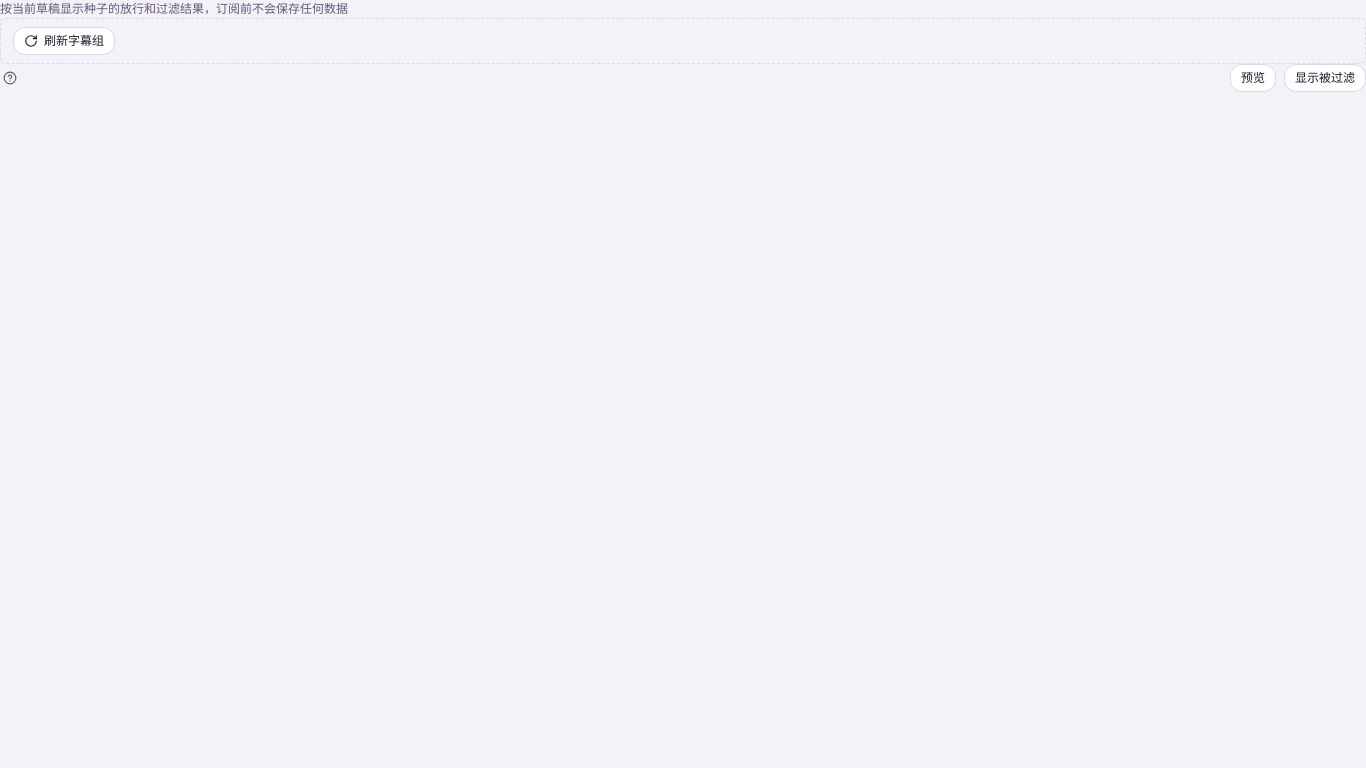
Test: 订阅前 RSS 工作区：草稿偏移编辑与文件行 › 偏移越界内联报错，不保存也不重读
Click the button "预览" at (1253, 78), box [1230,64,1276,92]
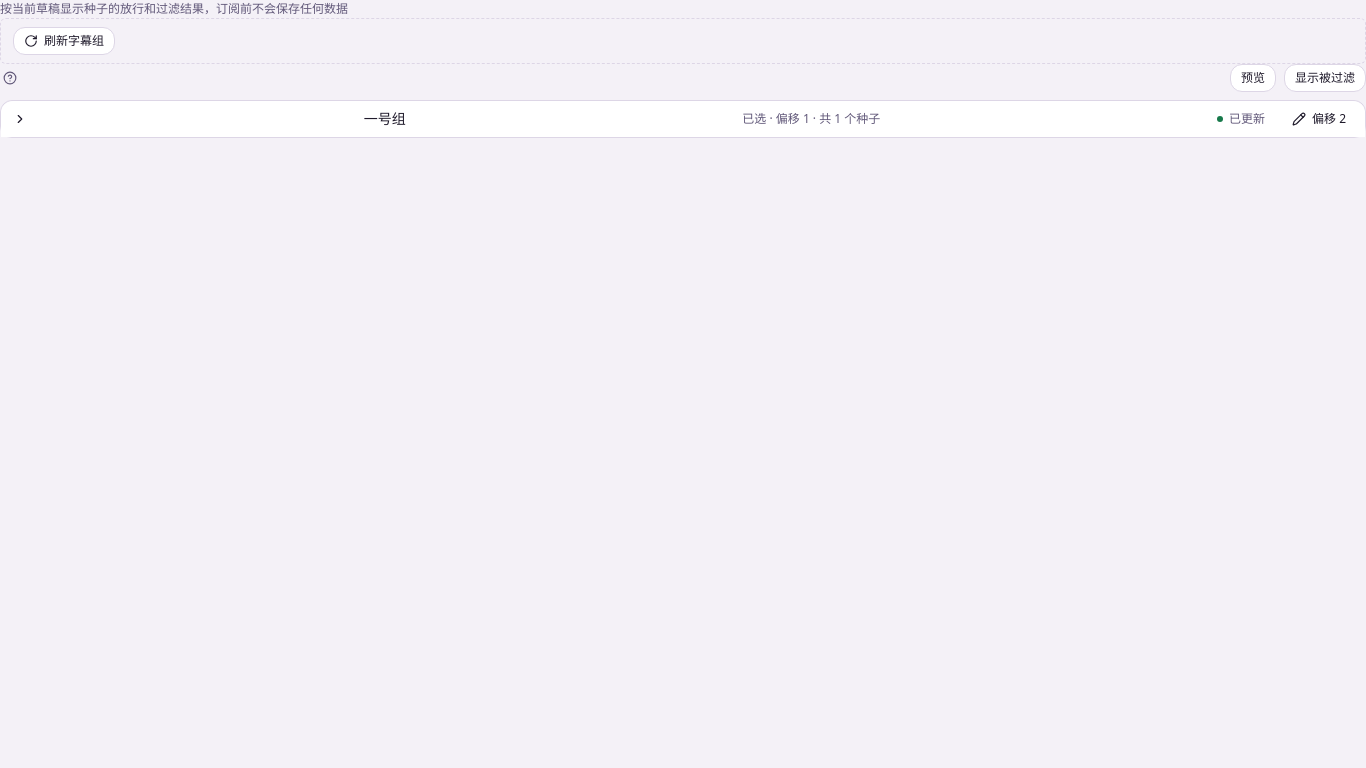
Expected: the text "一号组" is shown, [364,109,406,129]
Click the button "偏移 2" at (1319, 119), box [1281,105,1357,133]
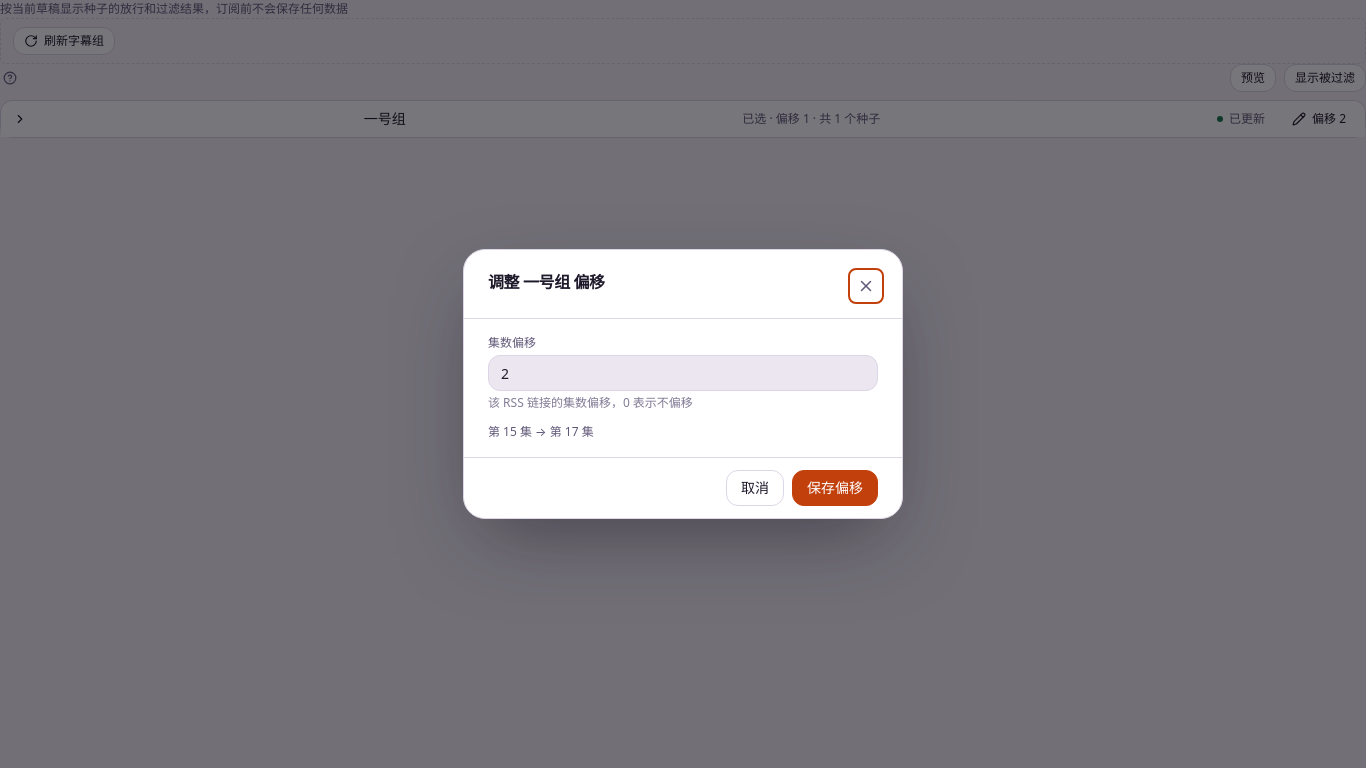
Replace the text in the number field labelled "集数偏移" with "1001" at (683, 373), box [488,355,878,391]
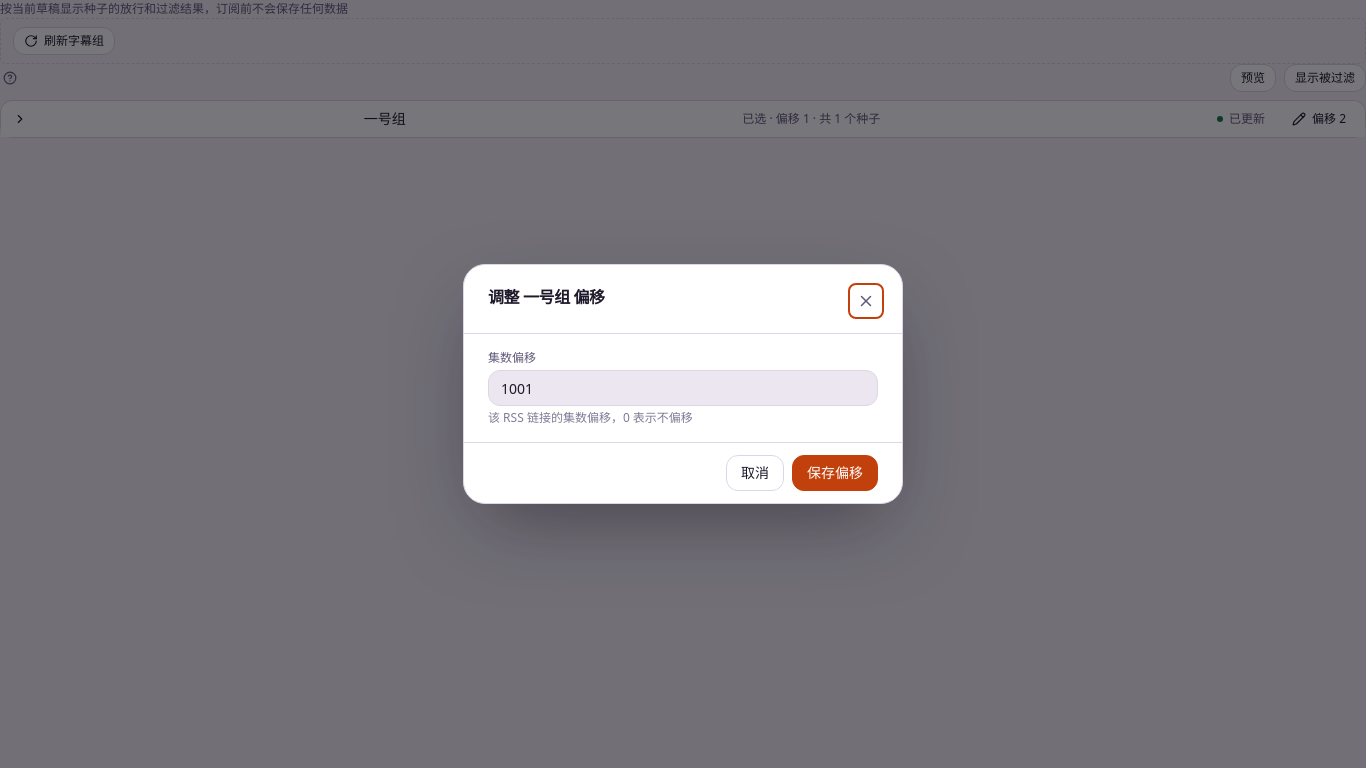
Click the button "保存偏移" at (835, 473), box [792,455,878,491]
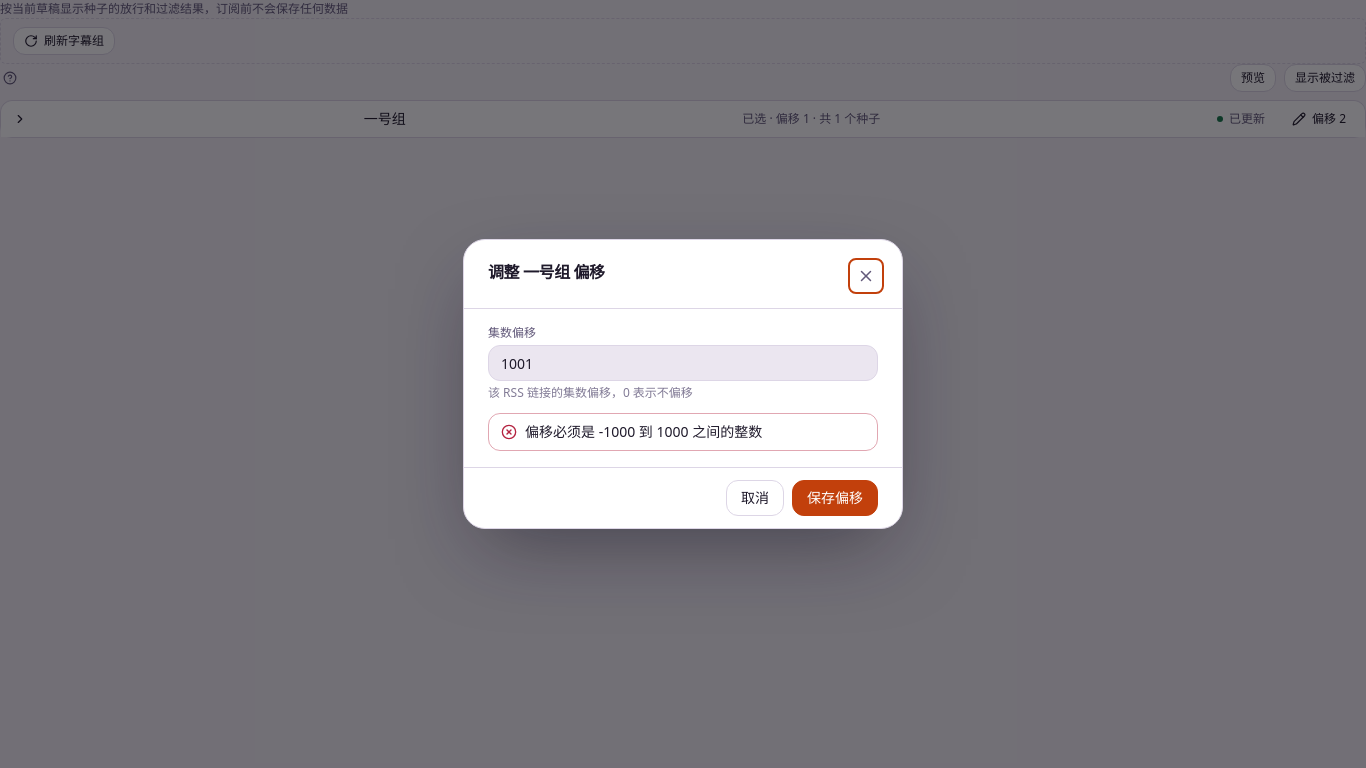
Expected: the text "偏移必须是 -1000 到 1000 之间的整数" is shown, [525,422,762,441]
